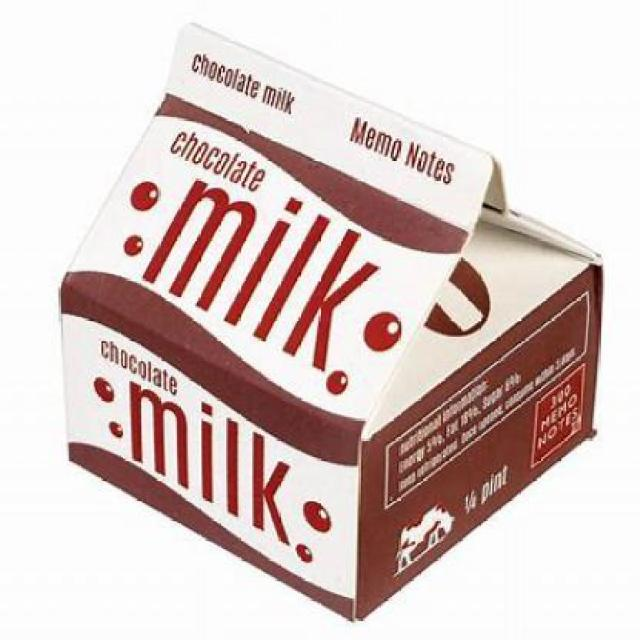drink carton: (60, 20, 603, 626)
